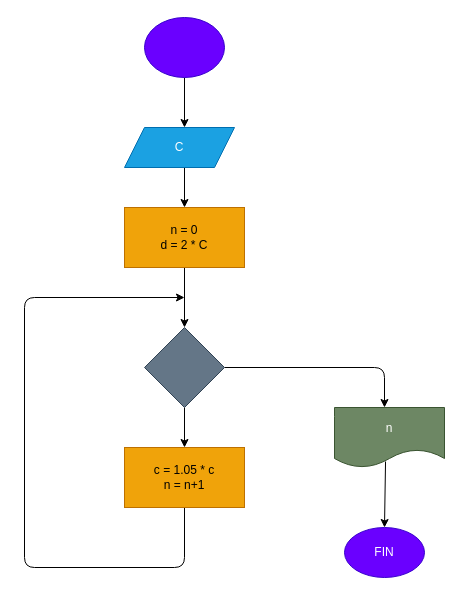
This 462x595 diagram has some shape labels left out. Each missing label, with the centre of its shape:
c<=d: the point at 184,367
INICIO: the point at 184,47
